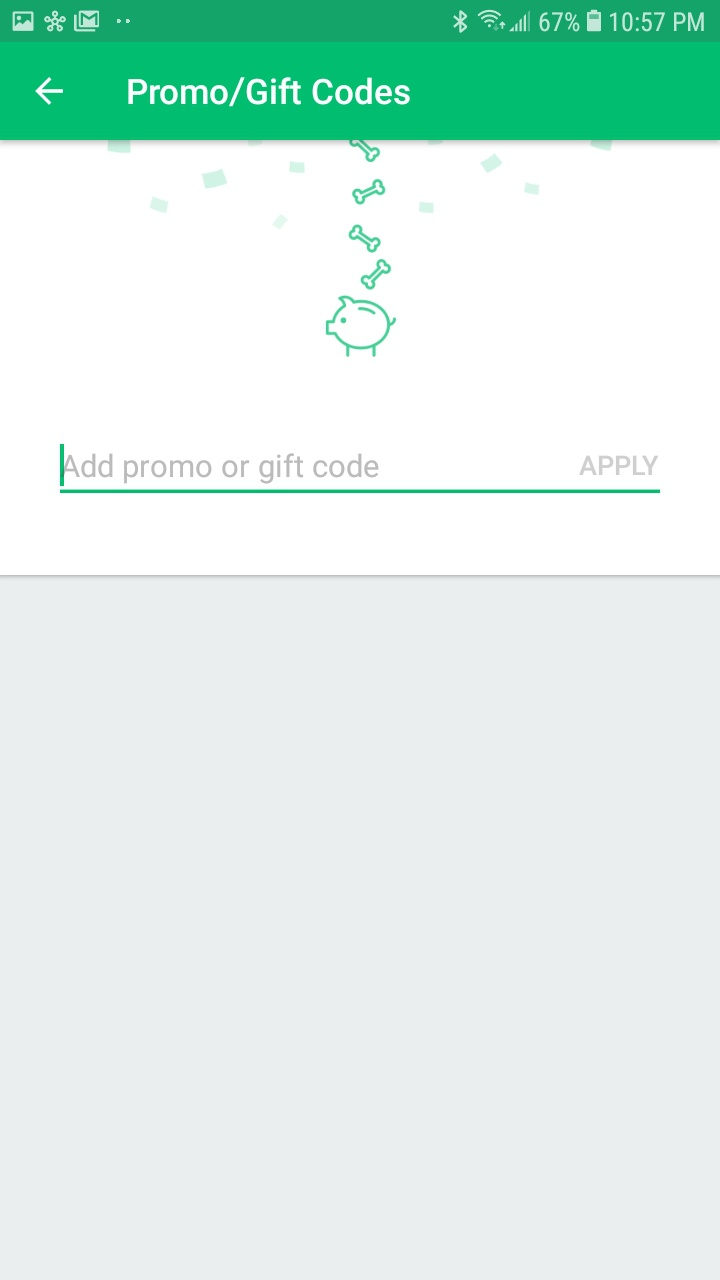EditText: (60, 444, 661, 495)
Icon: (35, 77, 64, 106)
Image: (108, 141, 612, 359)
Text: (65, 453, 380, 485), (128, 77, 411, 108), (579, 455, 659, 476)
UpperTaskBar: (1, 1, 720, 43)
